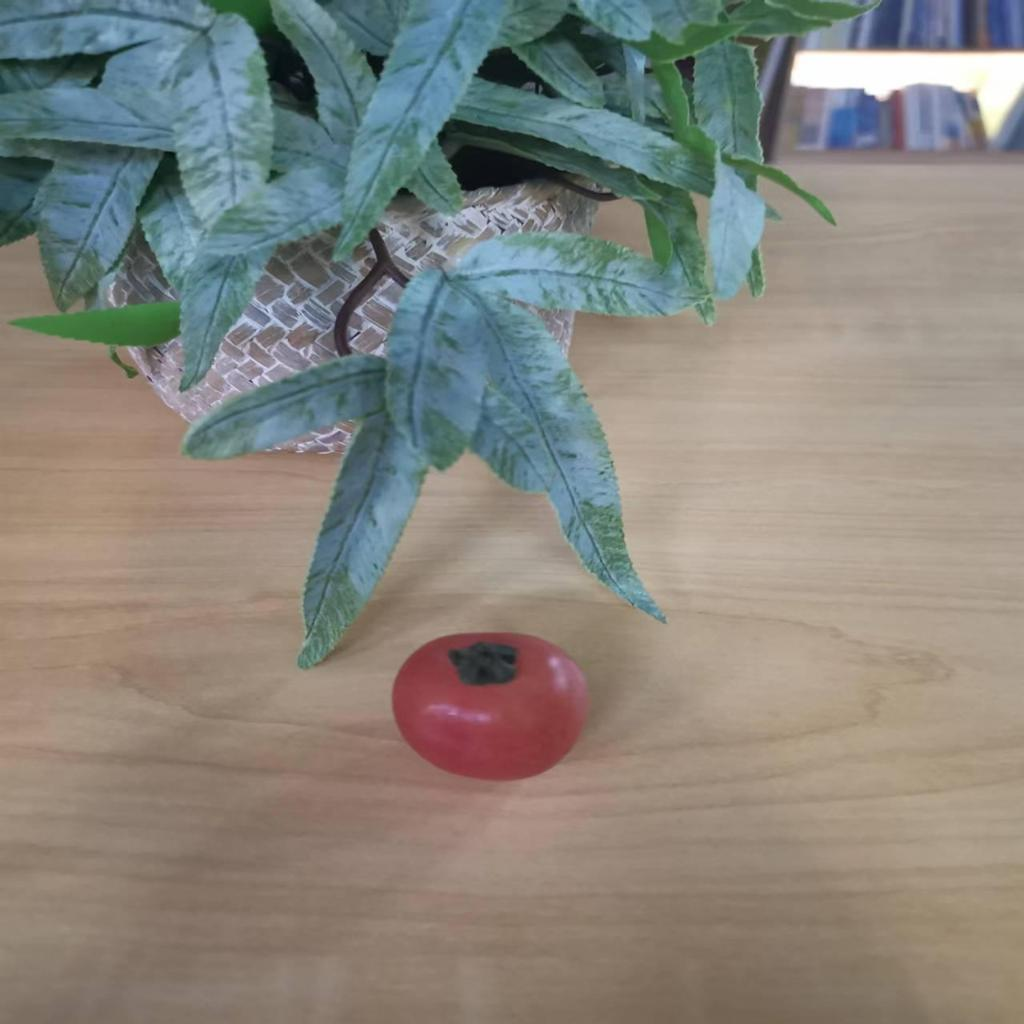tomato: (395, 621, 587, 790)
